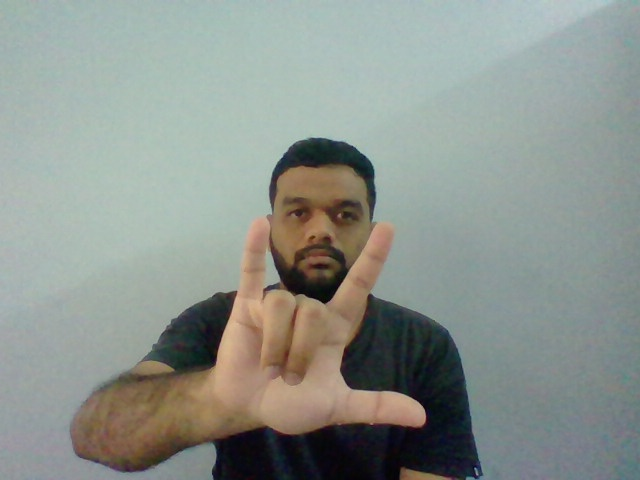I love you: (219, 216, 427, 429)
